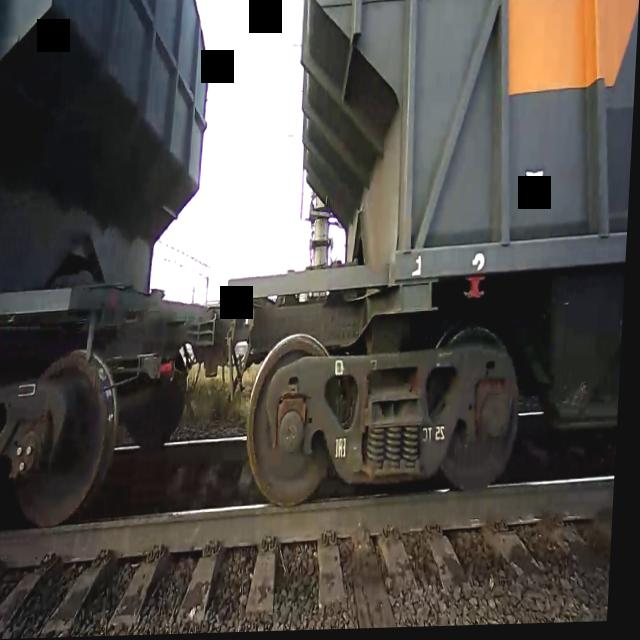hopper: (214, 0, 640, 522), (0, 0, 242, 562)
